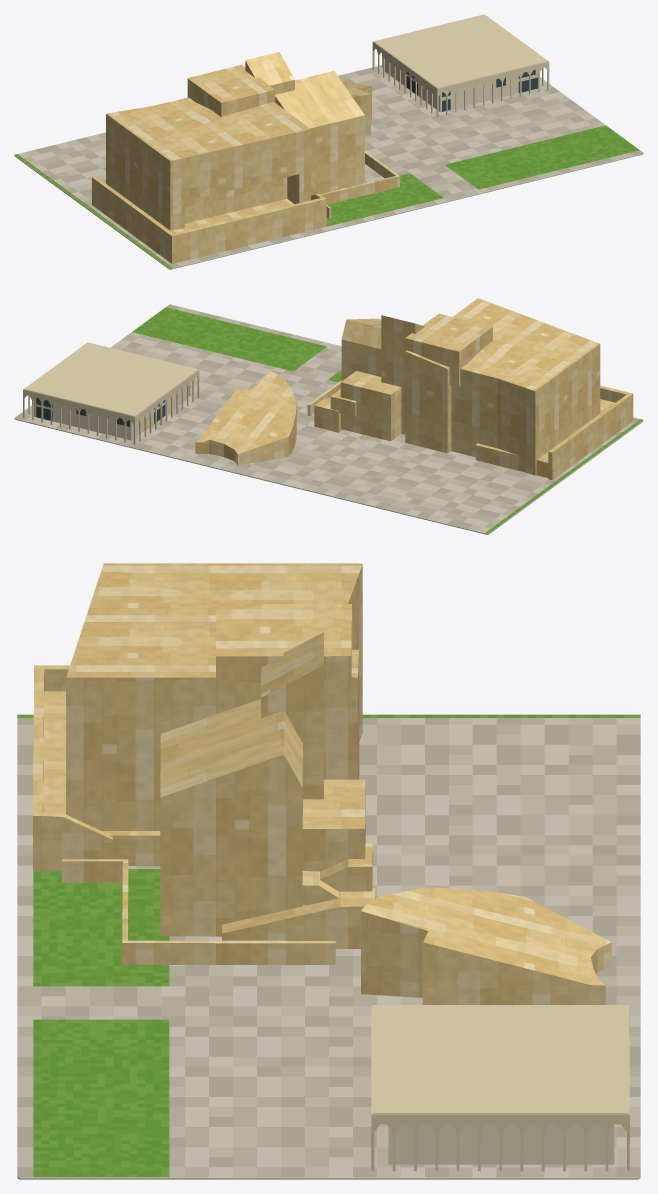
Rendered from lugar_museo-la-tertulia.glb.
3 renders of one model, top to bottom at view 1: azimuth 30°, elevation 25°; view 2: azimuth 150°, elevation 25°; view 3: azimuth 270°, elevation 25°, orthographic. The views are drawn at different scales.
Visible parts, largest first — view 1: suelo_pasto_y_camino, Cube.002, Cube.007, techo, Cube.003, Cube.006, Cube.020, columnas, Cube.009, Cube.005, Cube.011, columnas.001 (+2 smaller); view 2: suelo_pasto_y_camino, Cube.002, techo, Cube.001, Cube.006, Cube.004, Cube.007, Cube.020, Cube.003, Cube.005, columas, Cube.010 (+4 smaller); view 3: suelo_pasto_y_camino, Cube.002, Cube.003, techo, Cube.001, Cube.006, Cube.020, Cube.009, Cube.005, Cube.007, columnas.002, Cube.004 (+5 smaller).
Part boxes in pixels (bbox=[...]): suelo_pasto_y_camino: bbox=[14, 65, 643, 268]; Cube.002: bbox=[106, 97, 310, 230]; Cube.007: bbox=[92, 176, 326, 263]; techo: bbox=[373, 14, 548, 88]; Cube.003: bbox=[275, 71, 364, 195]; Cube.006: bbox=[187, 64, 275, 116]; Cube.020: bbox=[385, 56, 538, 112]; columnas: bbox=[437, 61, 549, 116]; Cube.009: bbox=[320, 151, 399, 218]; Cube.005: bbox=[245, 52, 294, 94]; Cube.011: bbox=[14, 153, 643, 269]; columnas.001: bbox=[372, 42, 437, 116]; suelo_pasto_y_camino: bbox=[14, 304, 643, 533]; Cube.002: bbox=[405, 298, 600, 475]; techo: bbox=[24, 342, 198, 416]; Cube.001: bbox=[195, 371, 296, 465]; Cube.006: bbox=[405, 313, 492, 386]; Cube.004: bbox=[340, 371, 401, 441]; Cube.007: bbox=[548, 385, 633, 479]; Cube.020: bbox=[34, 384, 186, 440]; Cube.003: bbox=[341, 318, 381, 380]; Cube.005: bbox=[381, 315, 424, 434]; columas: bbox=[23, 389, 134, 444]; Cube.010: bbox=[475, 399, 614, 478]; suelo_pasto_y_camino: bbox=[17, 714, 640, 1177]; Cube.002: bbox=[66, 563, 362, 830]; Cube.003: bbox=[160, 699, 302, 936]; techo: bbox=[372, 1005, 628, 1114]; Cube.001: bbox=[361, 887, 611, 1004]; Cube.006: bbox=[216, 603, 351, 726]; Cube.020: bbox=[388, 1124, 614, 1164]; Cube.009: bbox=[62, 859, 335, 964]; Cube.005: bbox=[261, 632, 323, 799]; Cube.007: bbox=[33, 665, 112, 871]; columnas.002: bbox=[371, 1113, 629, 1171]; Cube.004: bbox=[302, 779, 365, 871].
Bounding box in the file's own units: 166 × 39.05 × 94.26.
12 materials, 1 textured.
